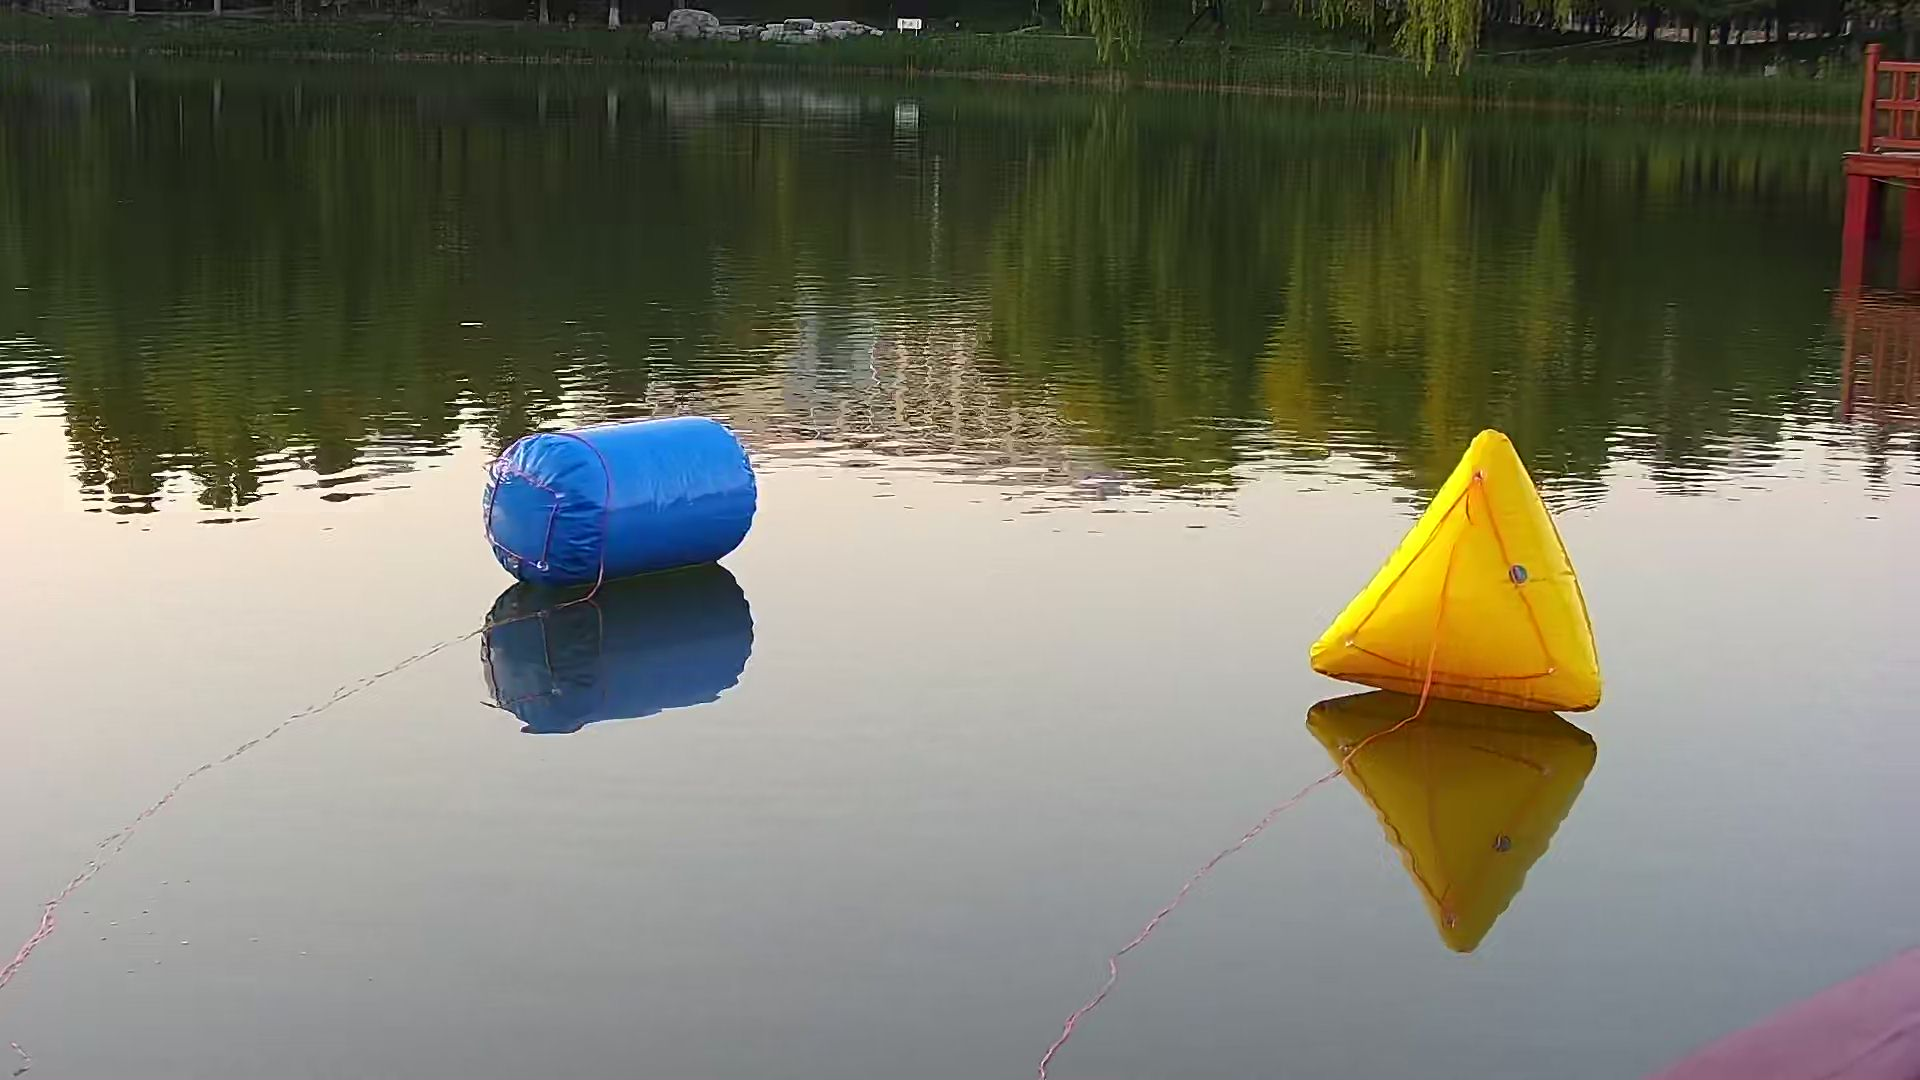rubbish: (1304, 429, 1611, 723), (473, 402, 766, 599)
